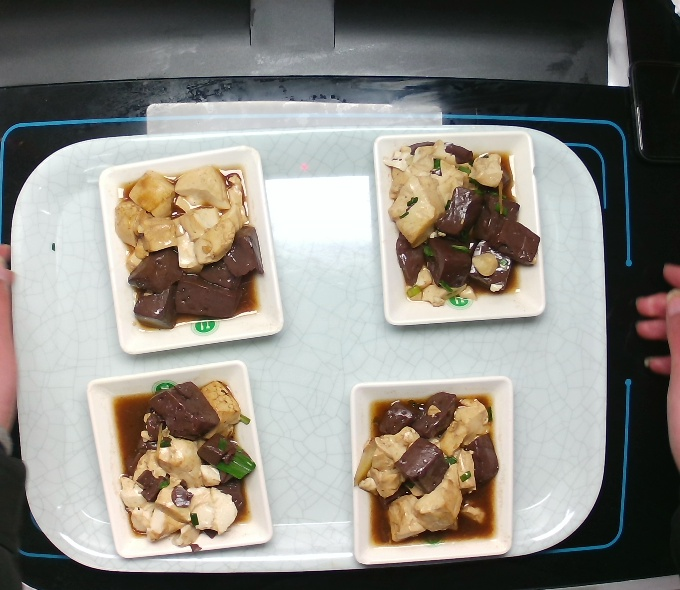wcq-DouFuMiuXue: (108, 159, 275, 332), (108, 374, 260, 554), (380, 143, 543, 305), (358, 383, 502, 558)
